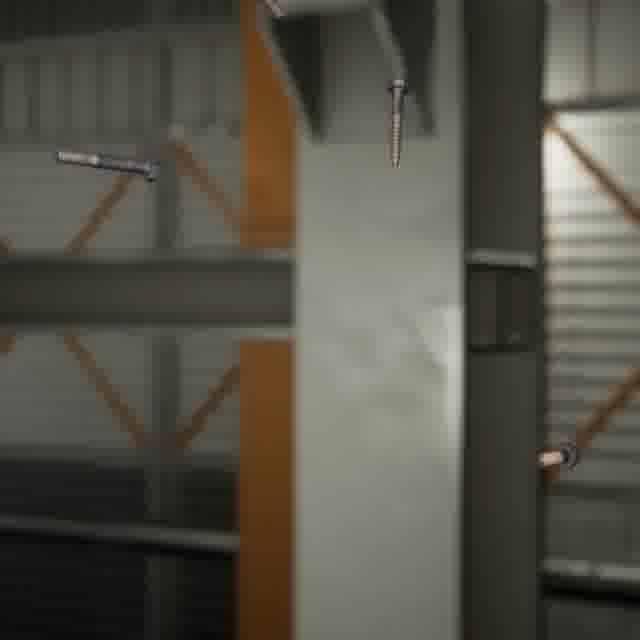bolt: (50, 144, 165, 186), (382, 74, 413, 173), (532, 437, 584, 473), (254, 0, 288, 23)
